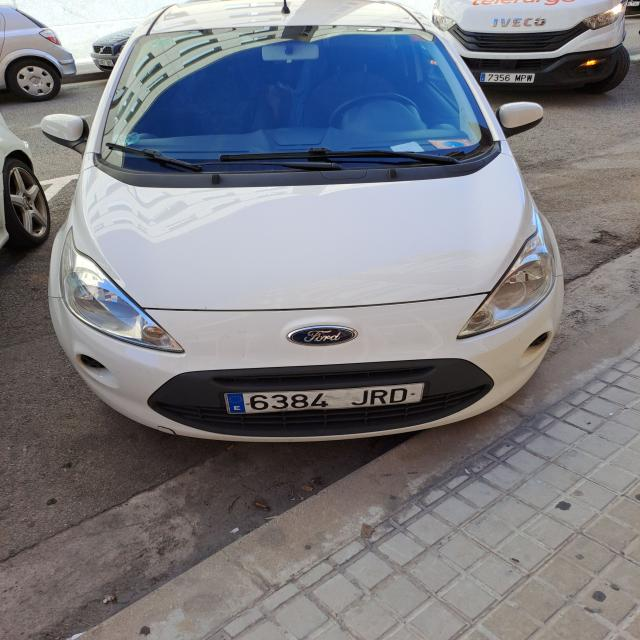license_plate-34Td: (225, 383, 424, 414)
